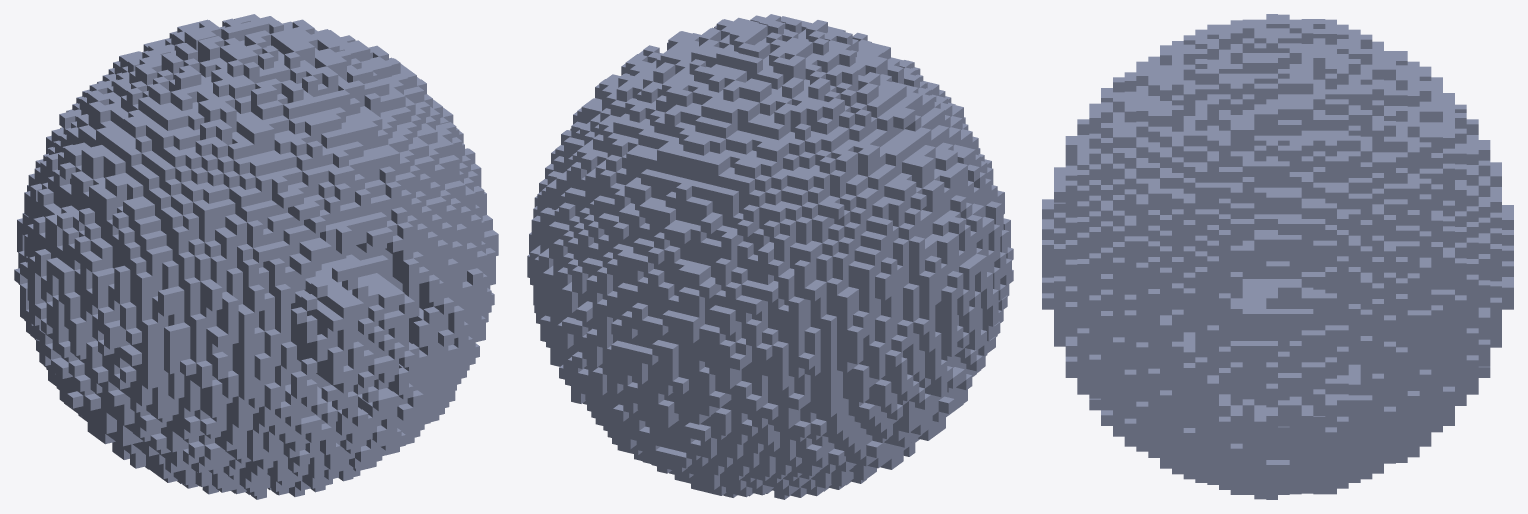
File: Estrela_Neutrons#959dba.dae
The picture shows the model from 3 angles, left to right: view 1: azimuth 30°, elevation 25°; view 2: azimuth 150°, elevation 25°; view 3: azimuth 270°, elevation 25°; orthographic projection.
Parts seen in each view (by area): view 1: Estrela_Neutrons#959dba-obj.vox; view 2: Estrela_Neutrons#959dba-obj.vox; view 3: Estrela_Neutrons#959dba-obj.vox.
Boxes of the visible parts, bbox=[...] form: Estrela_Neutrons#959dba-obj.vox: bbox=[14, 14, 498, 499]; Estrela_Neutrons#959dba-obj.vox: bbox=[527, 14, 1013, 499]; Estrela_Neutrons#959dba-obj.vox: bbox=[1042, 14, 1513, 499].
Size of the model in its own units: 4 by 4 by 4.
